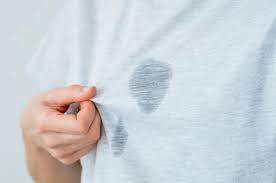mustard: (129, 60, 165, 108), (102, 120, 134, 155)
